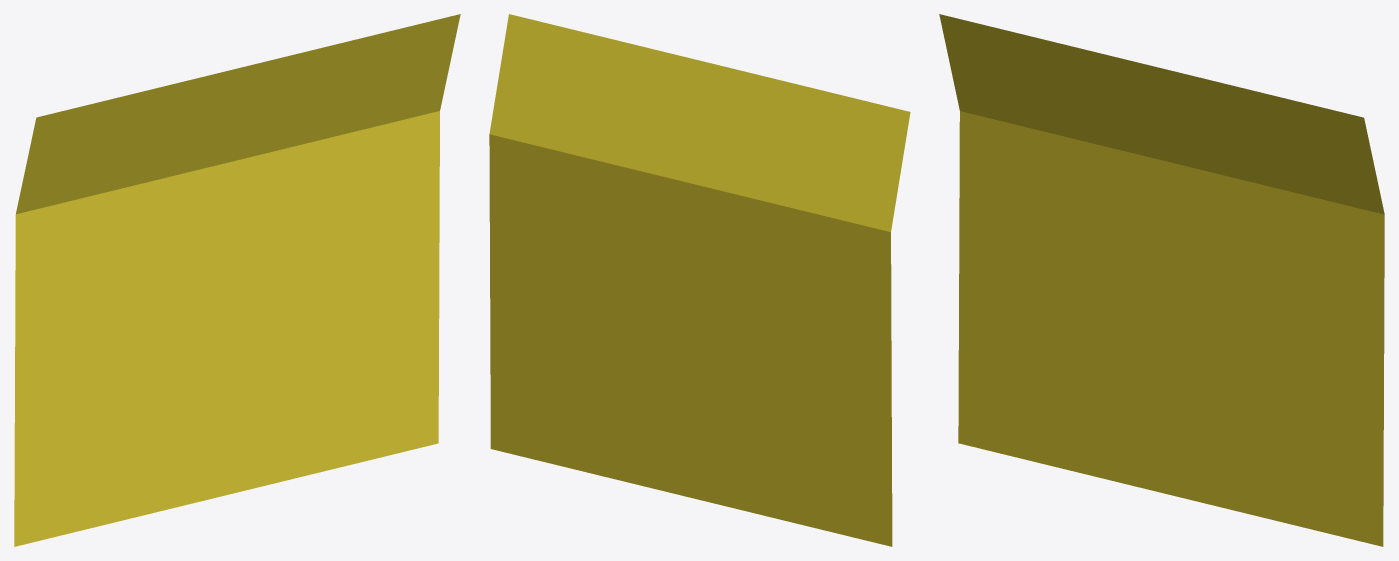
3 views of the same model, side by side, from view 1: azimuth 30°, elevation 25°; view 2: azimuth 150°, elevation 25°; view 3: azimuth 330°, elevation 25° (orthographic). The views are drawn at different scales.
Parts seen in each view (by area): view 1: group1376193121; view 2: group1376193121; view 3: group1376193121.
Boxes of the visible parts, box(x1,y1,x2,y2) form: group1376193121: box(14, 14, 460, 546); group1376193121: box(489, 14, 910, 546); group1376193121: box(939, 14, 1384, 546).
Bounding box in the file's own units: 0.1204 × 0.12 × 0.0101.
